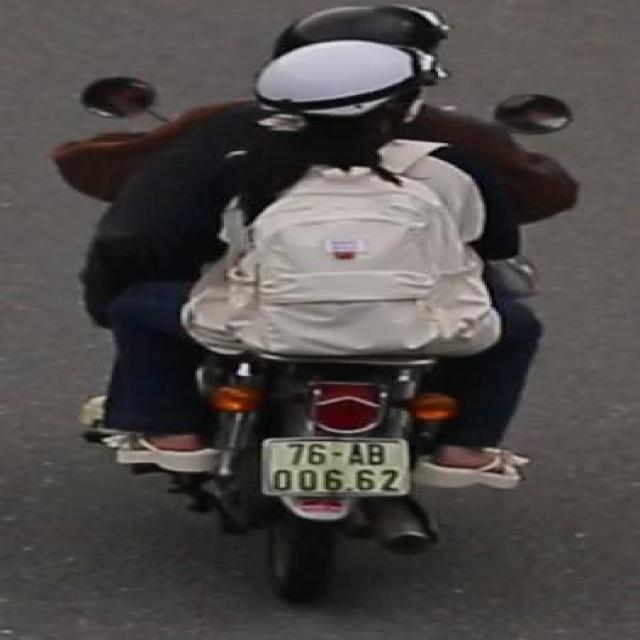LP: (257, 433, 420, 501)
helmet: (250, 37, 436, 145)
